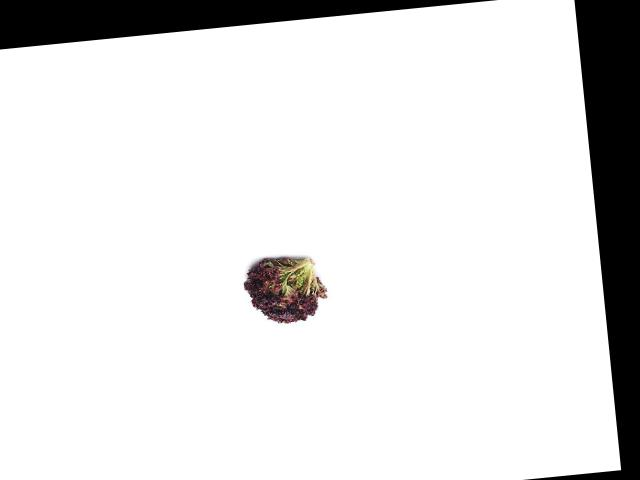lettuce: (237, 248, 325, 330)
